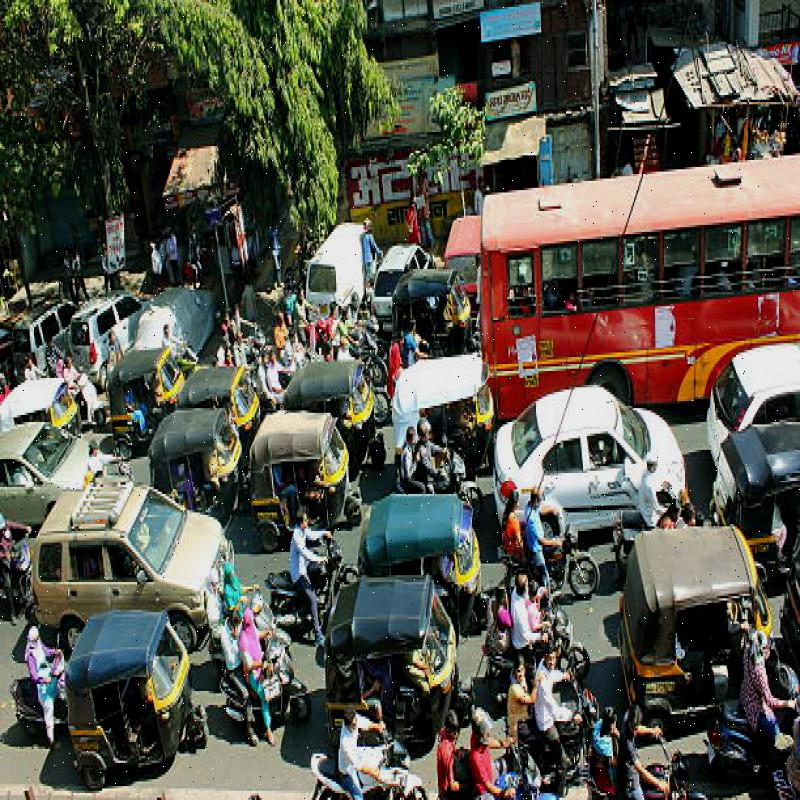auto: (610, 523, 800, 712), (55, 622, 238, 775), (315, 572, 491, 730), (362, 490, 506, 610), (244, 389, 336, 525), (142, 405, 255, 504), (99, 332, 206, 414)
car: (490, 414, 691, 560)
